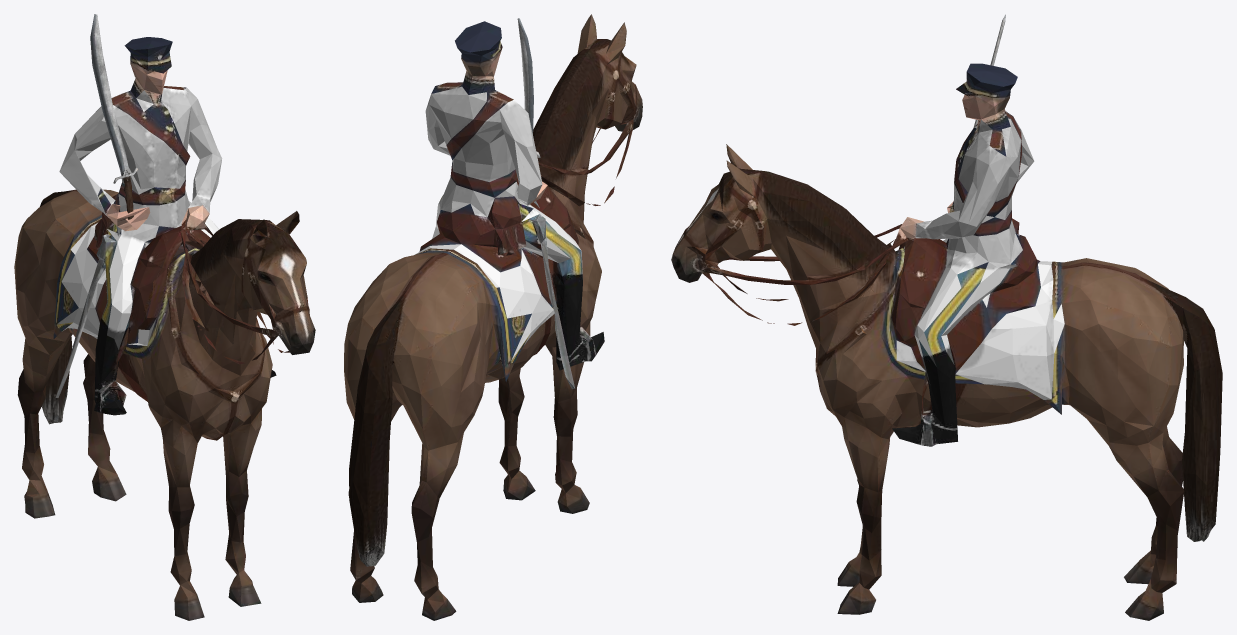
File: realistic-cc0.116a16859014.cavalry.glb
The picture shows the model from 3 angles, left to right: view 1: azimuth 30°, elevation 25°; view 2: azimuth 150°, elevation 25°; view 3: azimuth 270°, elevation 25°; orthographic projection.
Visible parts, largest first — view 1: cavalry; view 2: cavalry; view 3: cavalry.
Boxes of the visible parts, box(x1,y1,x2,y2) form: cavalry: box(14, 14, 315, 620); cavalry: box(344, 14, 642, 620); cavalry: box(671, 14, 1222, 620).
Bounding box in the file's own units: 0.9027 × 2.65 × 2.37.
Materials: 3 (3 with a texture image).
